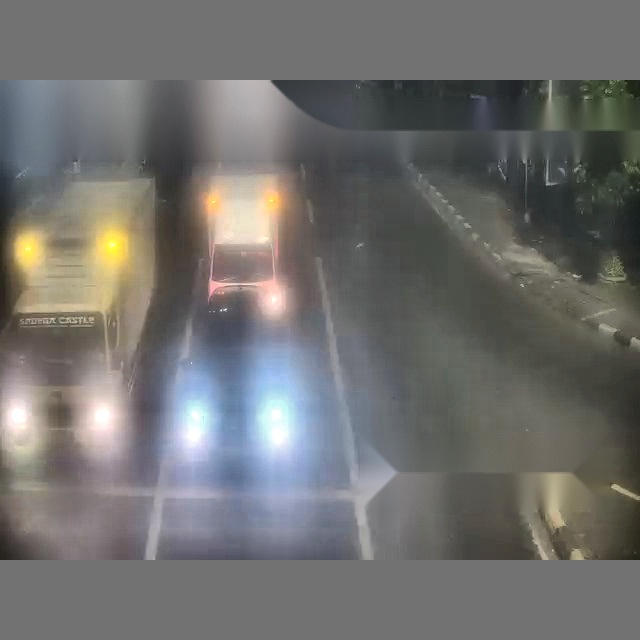Truk: (1, 81, 158, 480)
